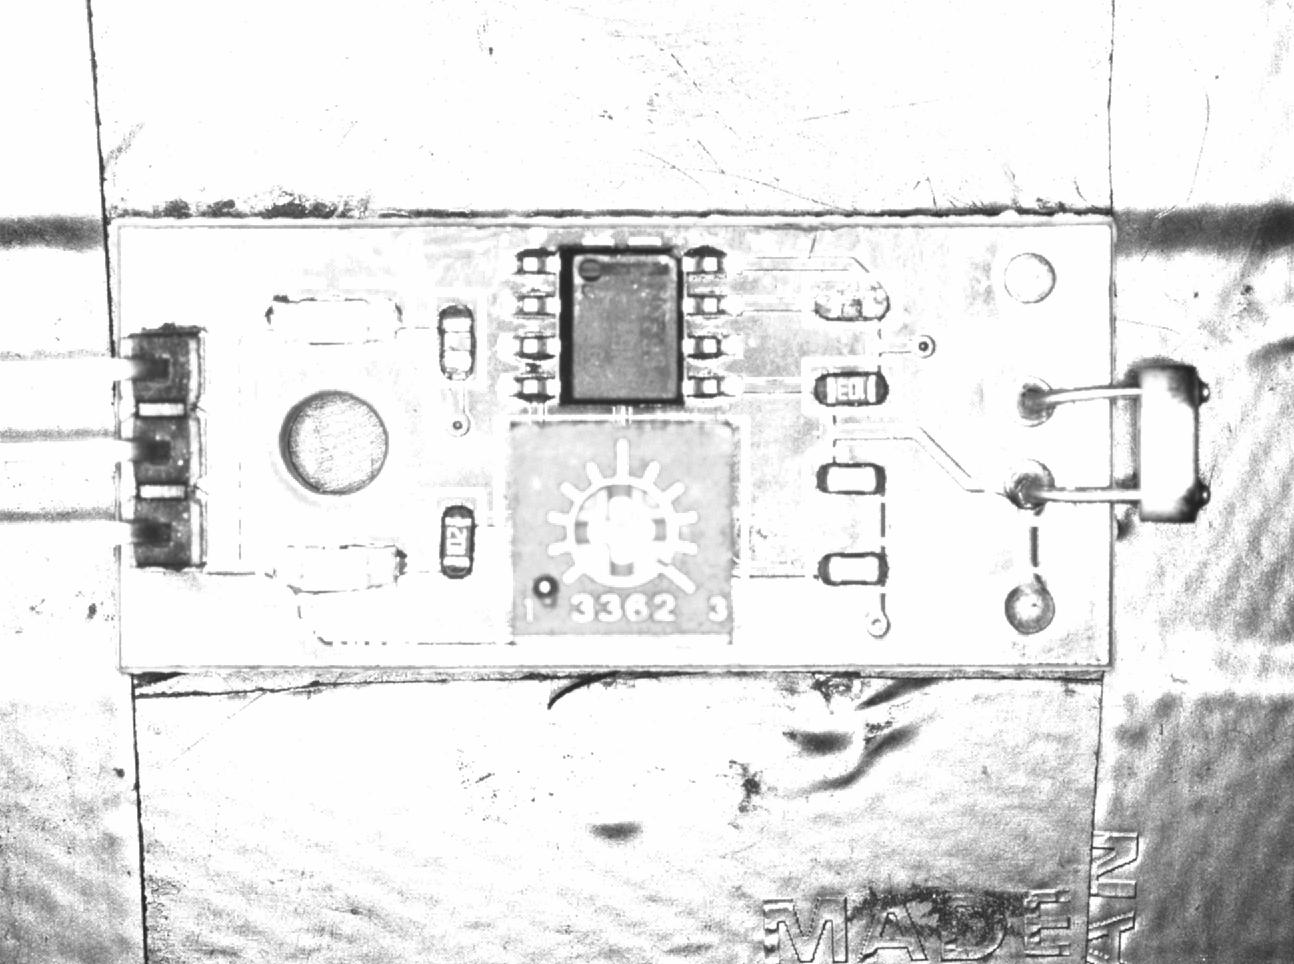miss: (801, 274, 901, 329), (428, 291, 483, 388)
ok: (799, 358, 904, 416), (426, 489, 488, 583), (798, 451, 903, 504), (800, 540, 900, 593)
